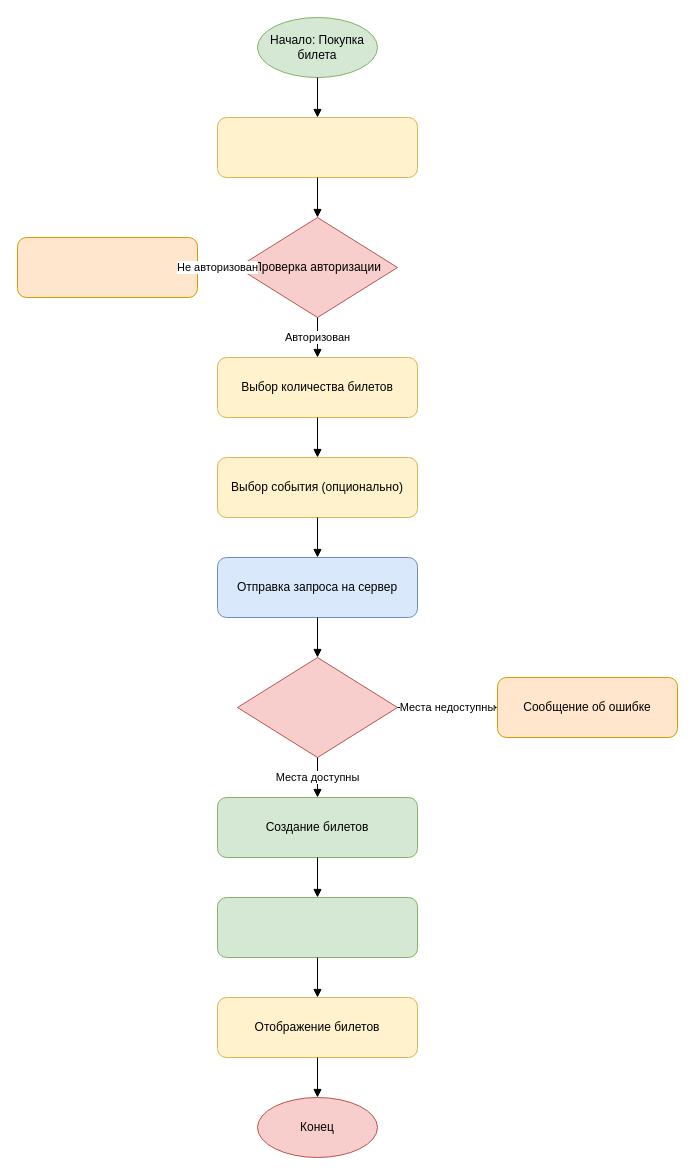
Some shapes in this 695 by 1175 pixel diagram are drawn without their labels. Here are the shapes that lost their labels. From the top down, the centre of each, then its label:
(317,147): Пользователь открывает страницу билетов
(107,267): Перенаправление на страницу входа
(317,707): Проверка доступности мест
(317,927): Обновление счетчика участников
